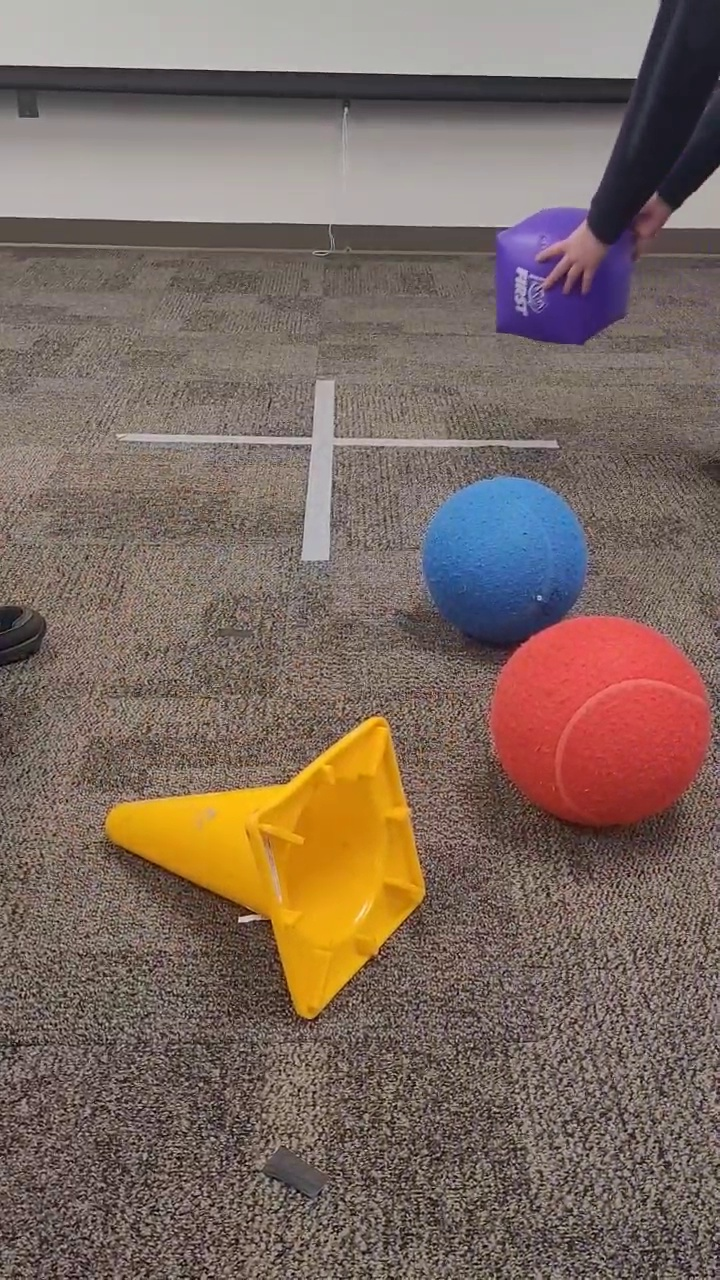ball: (486, 613, 711, 831), (420, 474, 588, 642)
cone: (101, 712, 430, 1024)
cube: (492, 203, 632, 346)
foot: (1, 597, 49, 677)
hand: (532, 214, 609, 301), (627, 188, 669, 251)
